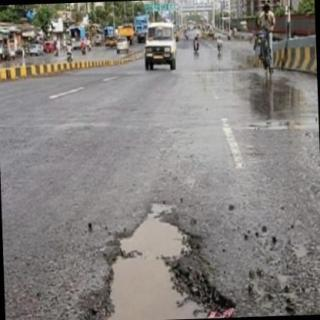pothole: (84, 204, 235, 320)
